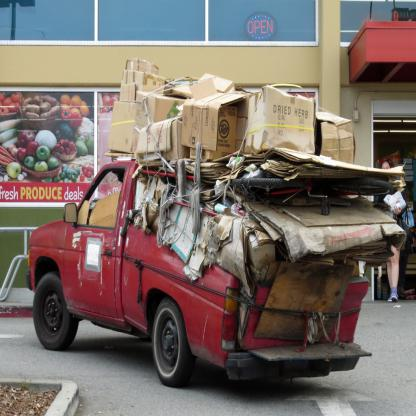overloaded-truck: (113, 55, 403, 353)
